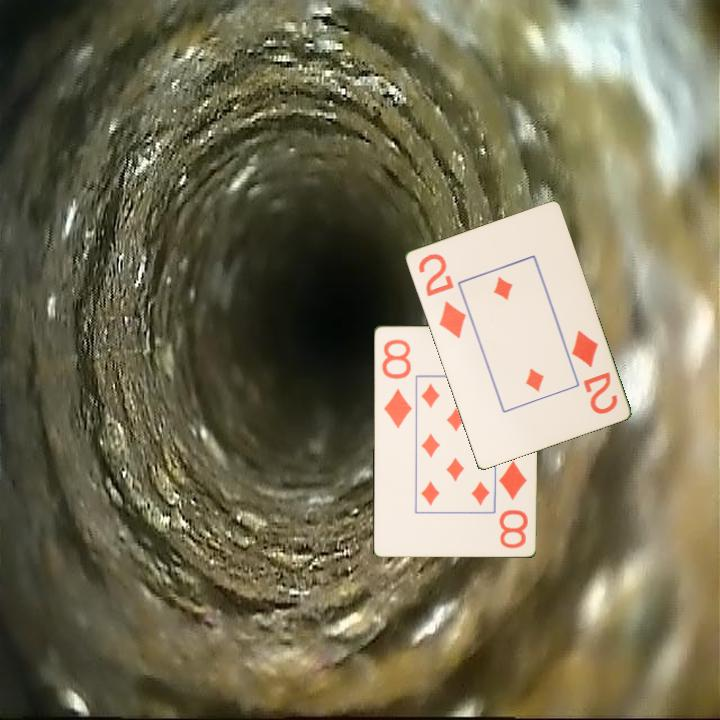2d: (414, 250, 468, 341), (567, 326, 620, 417)
8d: (378, 336, 414, 431), (495, 457, 530, 551)
